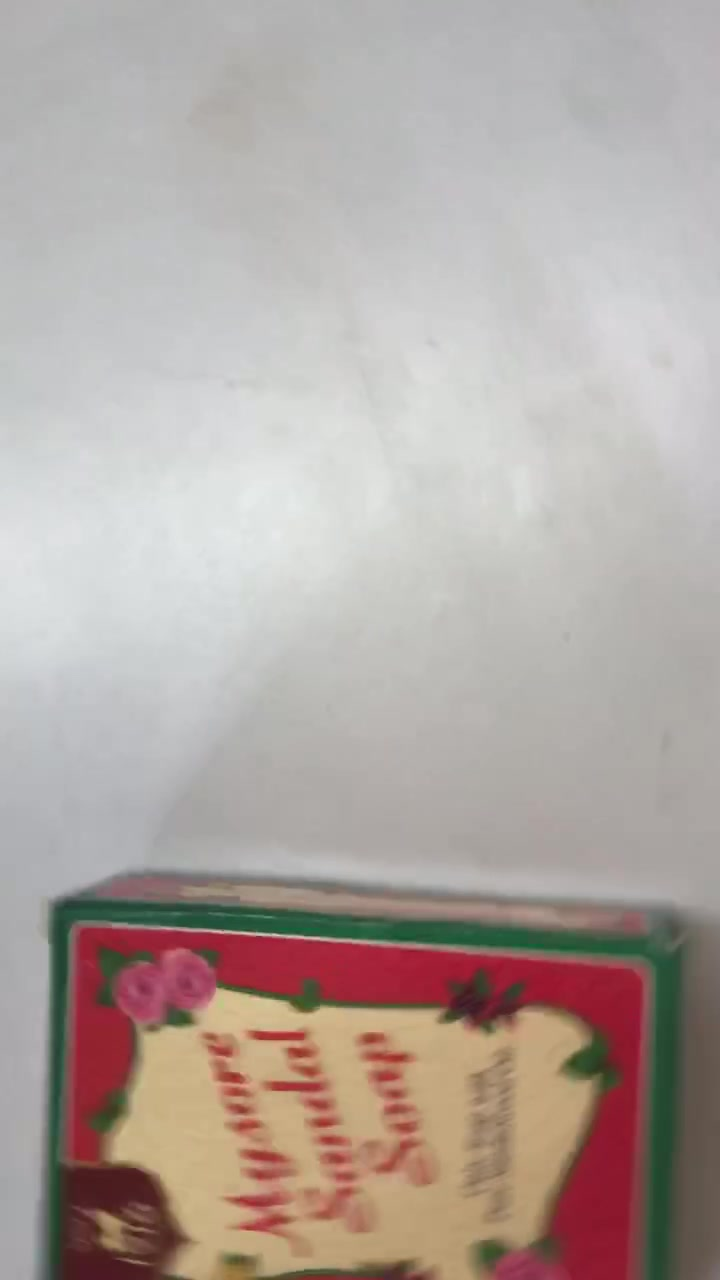mysore sandal soap: (46, 870, 677, 1270)
